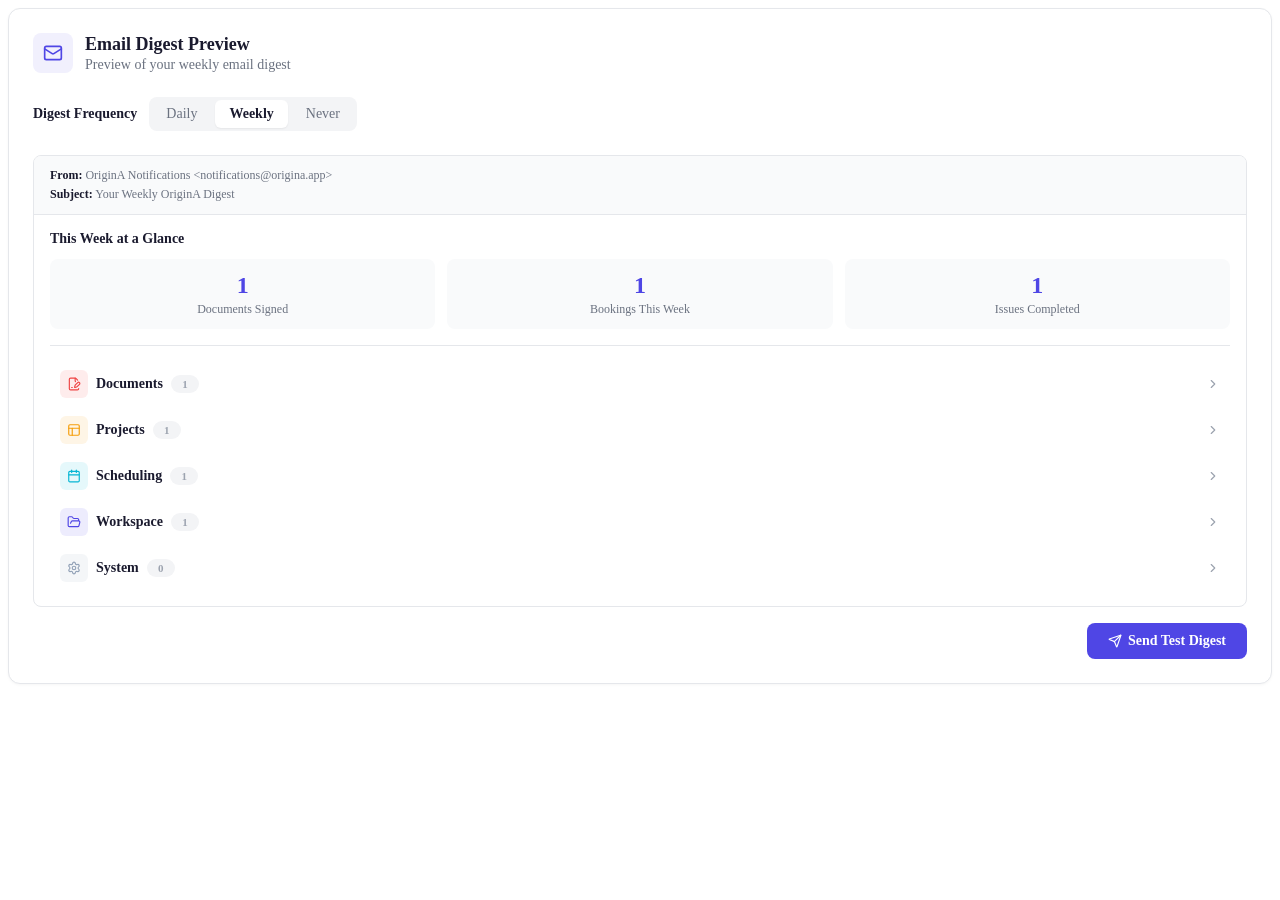
Test case: DigestPreview › simulates sending a test digest
This screenshot has width=1280, height=900.
Click the button "Send Test Digest" at {"x": 1167, "y": 641}, box [1087,623,1247,659]
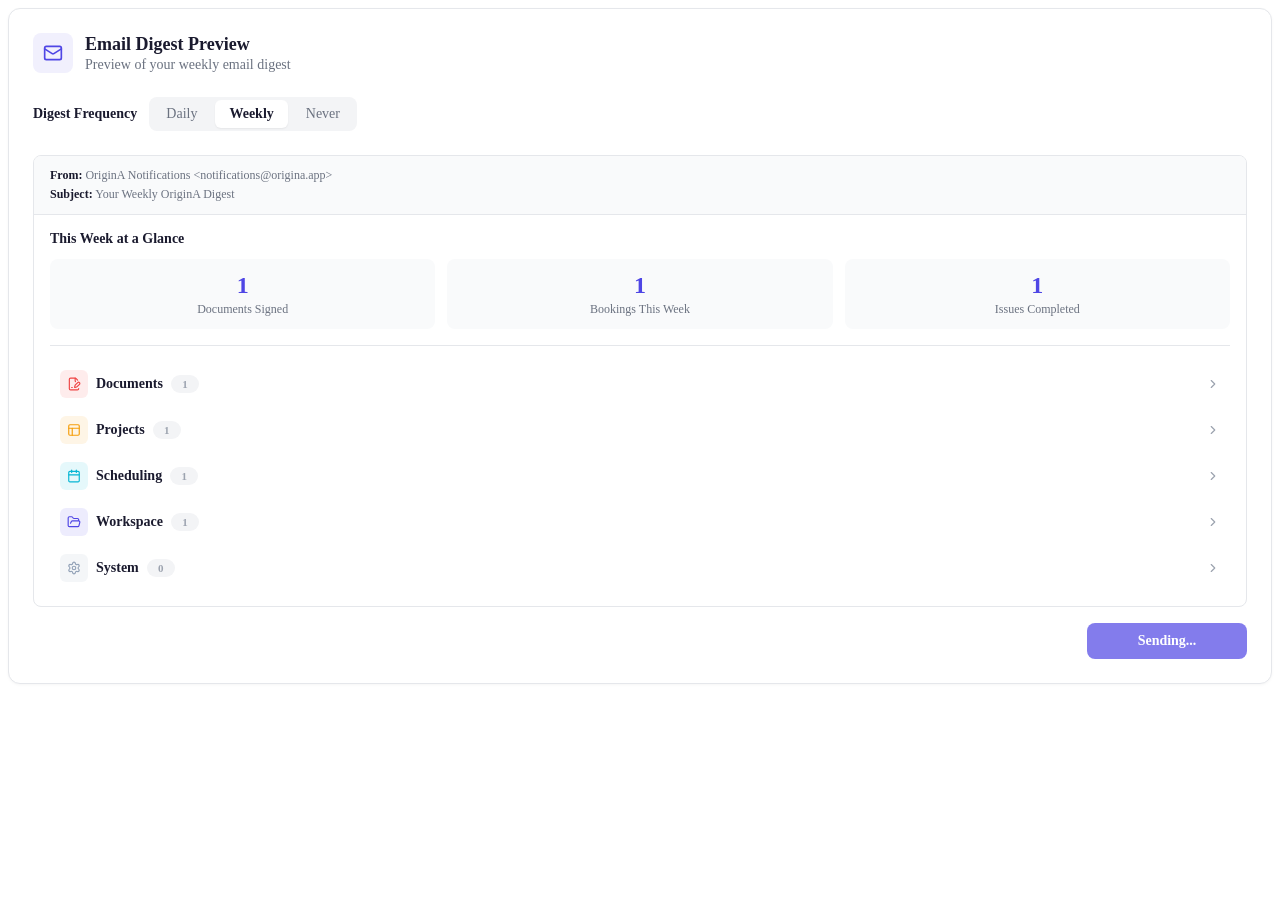
expect the button "Sending..." is shown: met, box [1087,623,1247,659]
